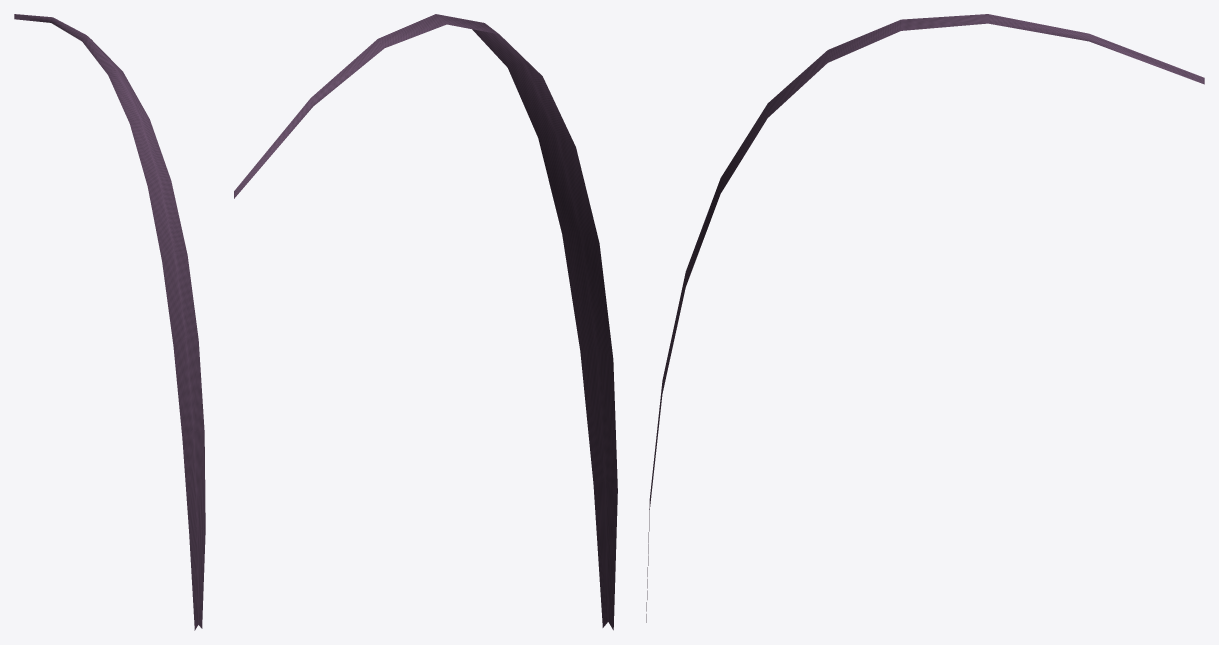
File: single_blade_06.glb
3 renders of one model, left to right at view 1: azimuth 30°, elevation 25°; view 2: azimuth 150°, elevation 25°; view 3: azimuth 270°, elevation 25°, orthographic. The views are drawn at different scales.
Visible parts, largest first — view 1: export; view 2: export; view 3: export.
Boxes of the visible parts, x1,y1,x2,y2 form: export: (14,14,205,630); export: (234,14,617,630); export: (646,14,1204,622).
Bounding box in the file's own units: 0.0949 × 1.01 × 0.8138.
1 material, 1 textured.
